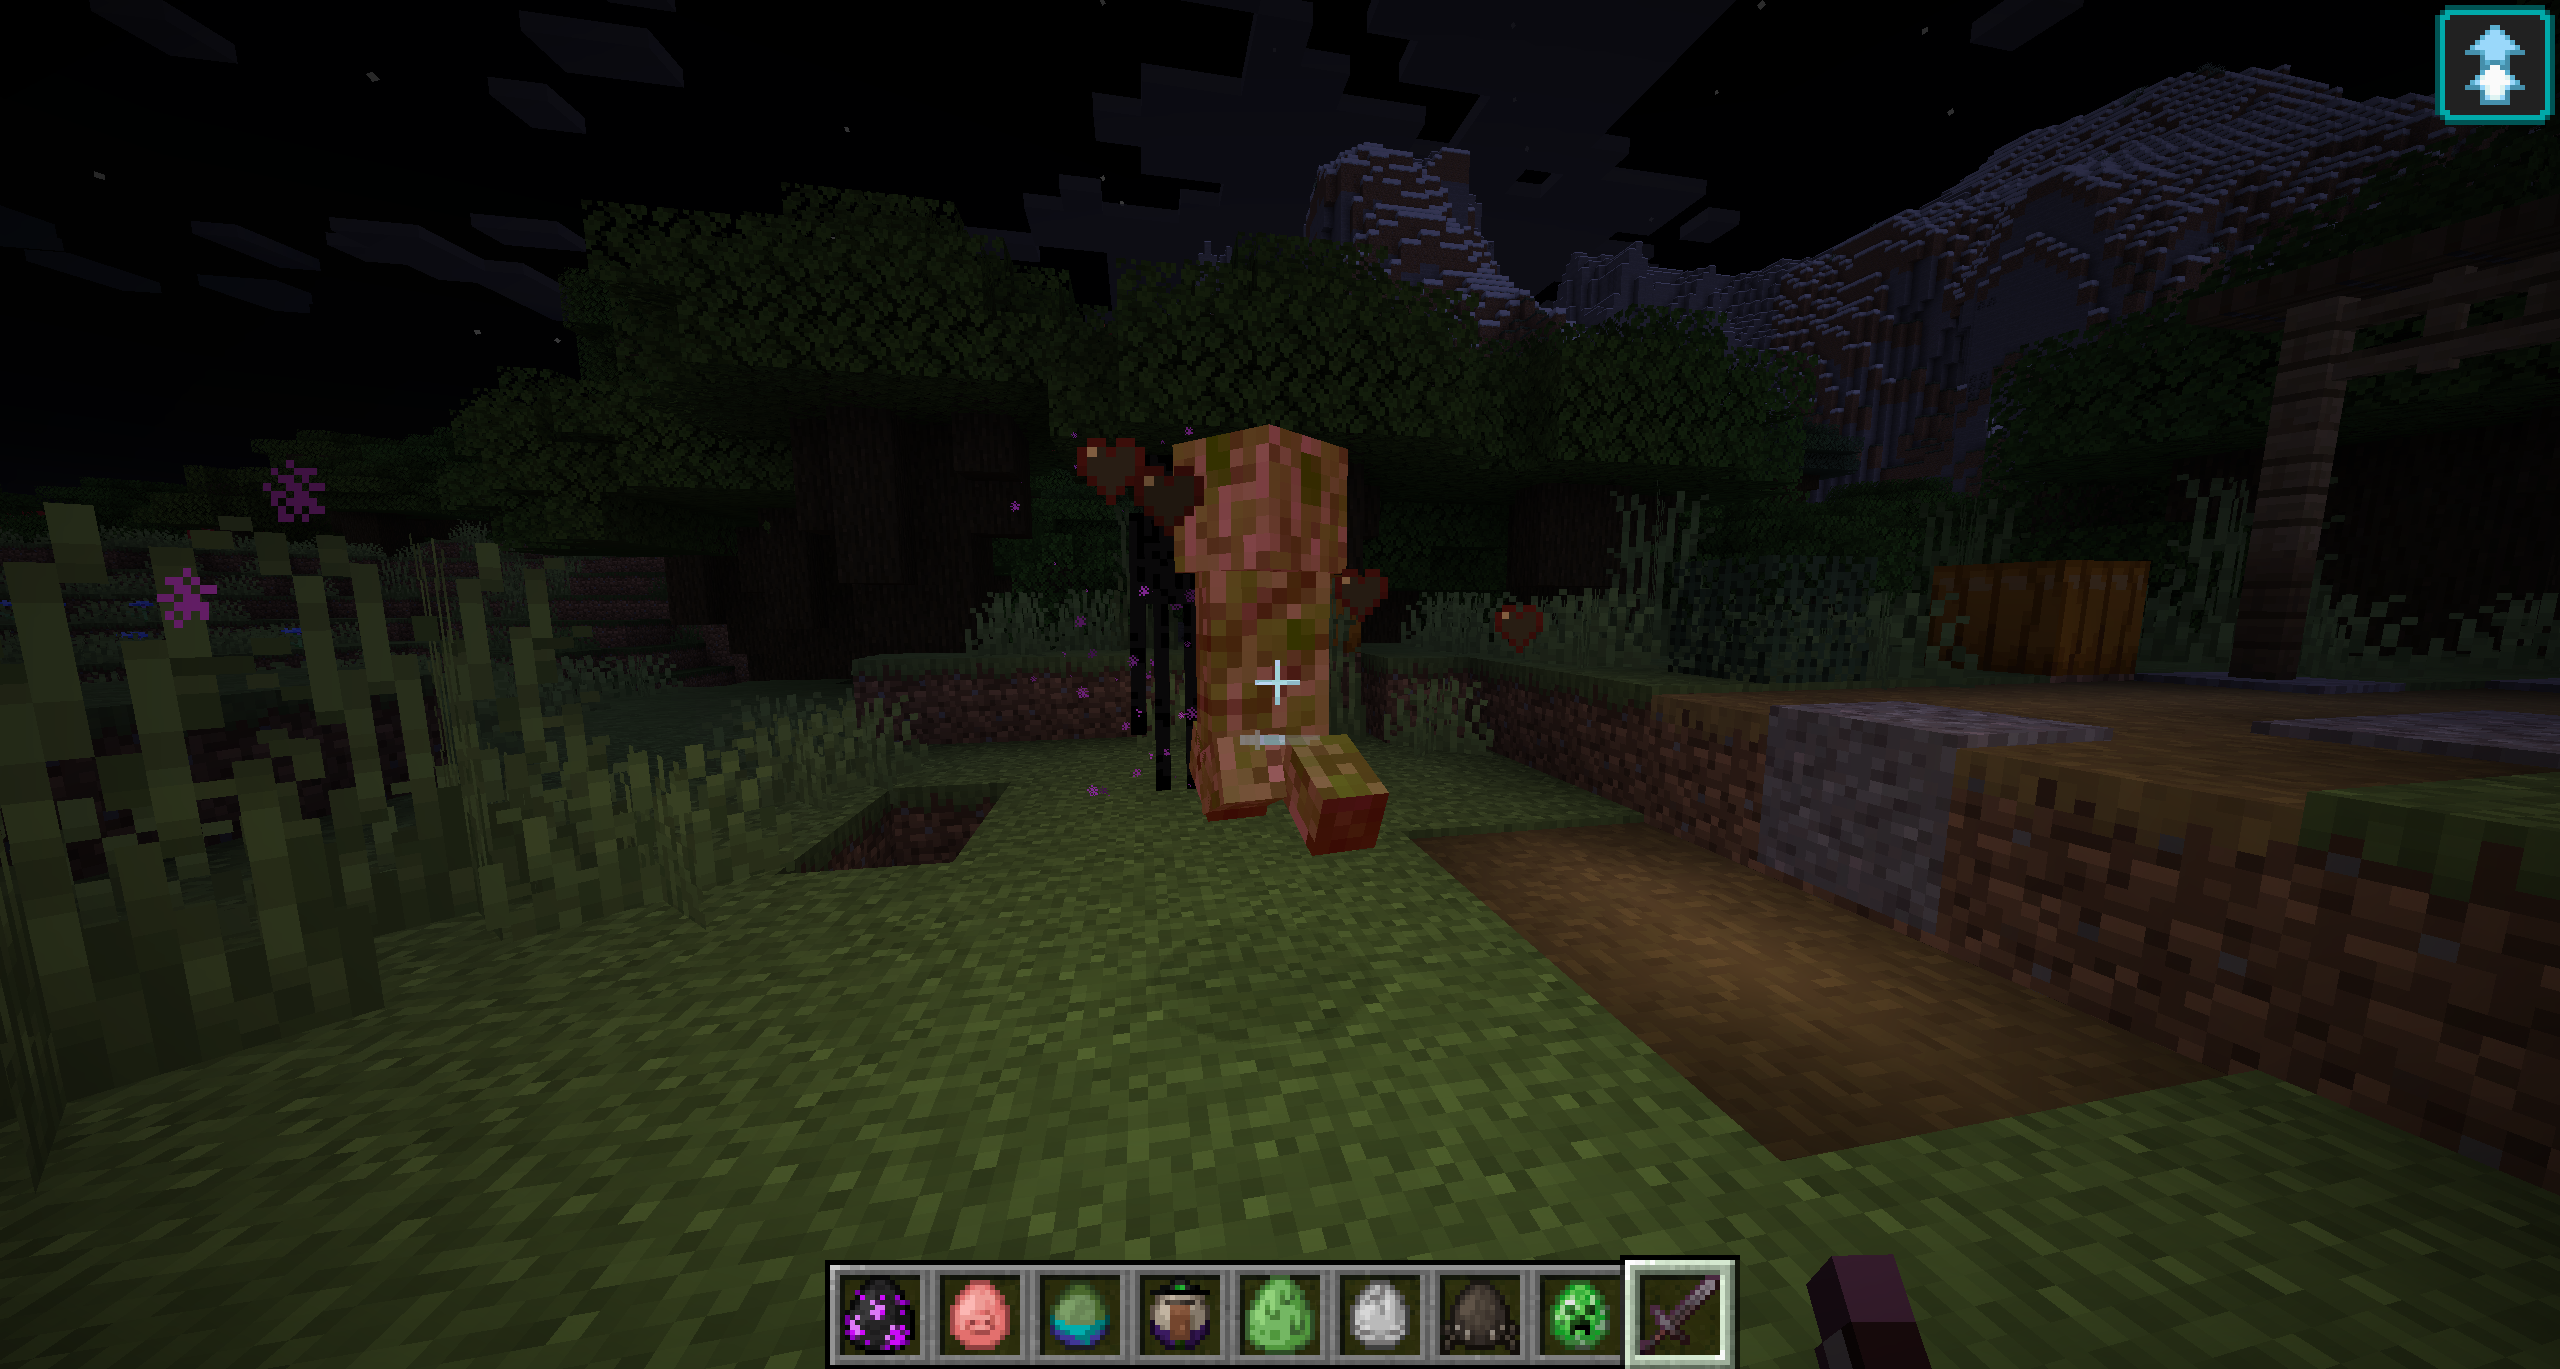creepers: (1170, 430, 1392, 855)
endermens: (1123, 443, 1197, 799)
